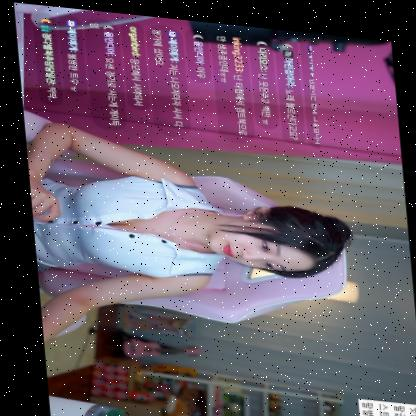streamer: (24, 119, 358, 369)
